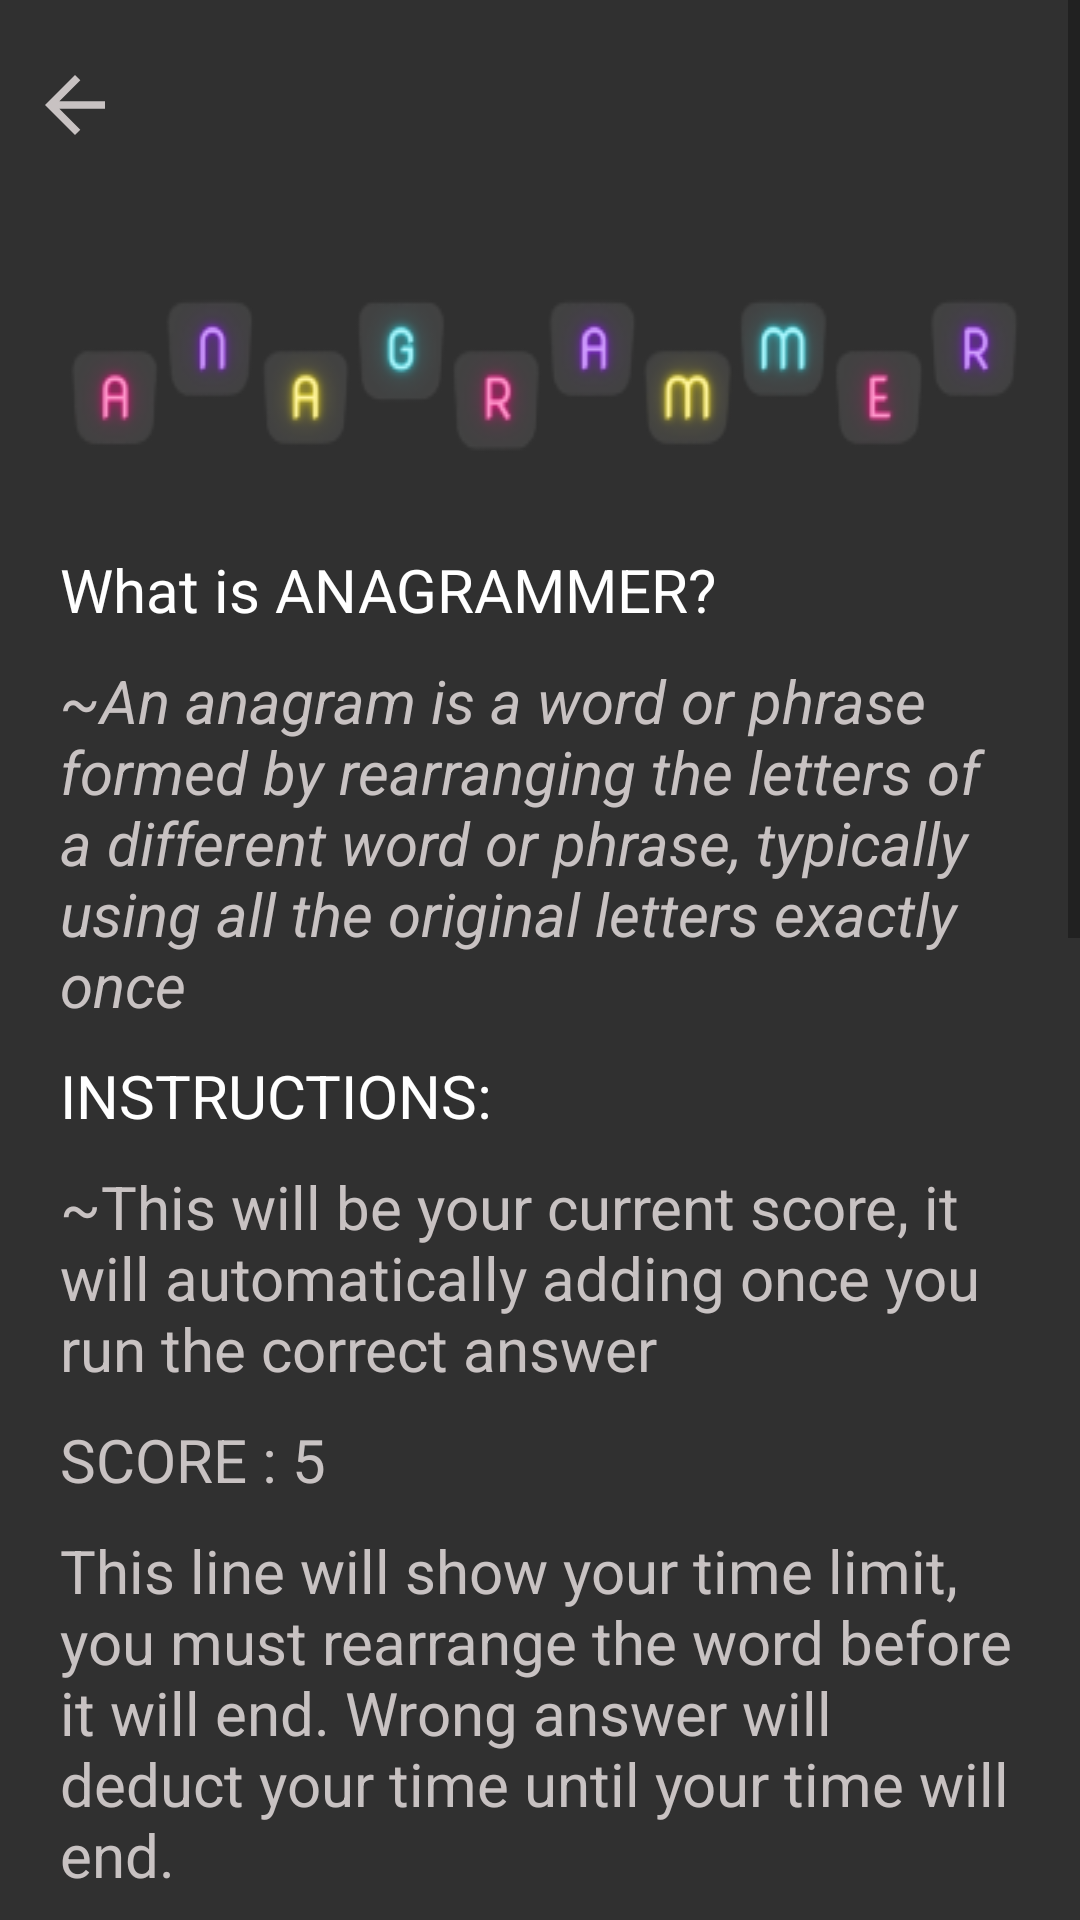

Icon click points for this 1080w x 1920h phone screenshot, format (x=x, y=y):
arrow back: (x=75, y=105)
